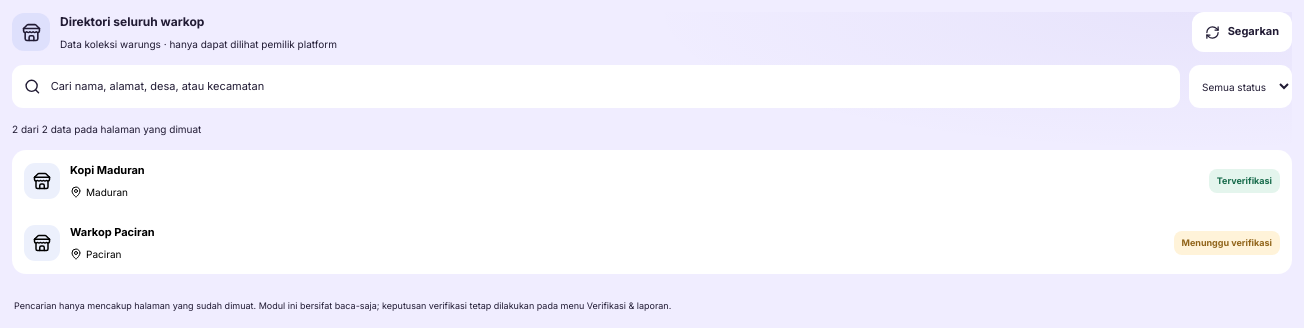
it: OwnerWarungManagement › mendukung pencarian pada halaman yang dimuat
Expected: the text "Kopi Maduran" is shown, [70, 163, 145, 177]
Type "Paciran" into the field named "Cari warkop" at (608,86), box [49, 77, 1168, 96]
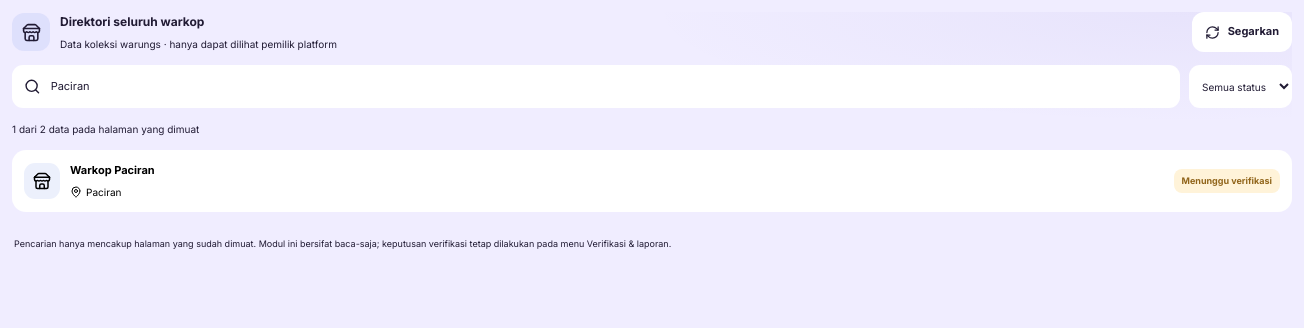
Expected: the text "Warkop Paciran" is shown, [70, 163, 155, 177]
Result: the button "Kopi Maduran" is gone
